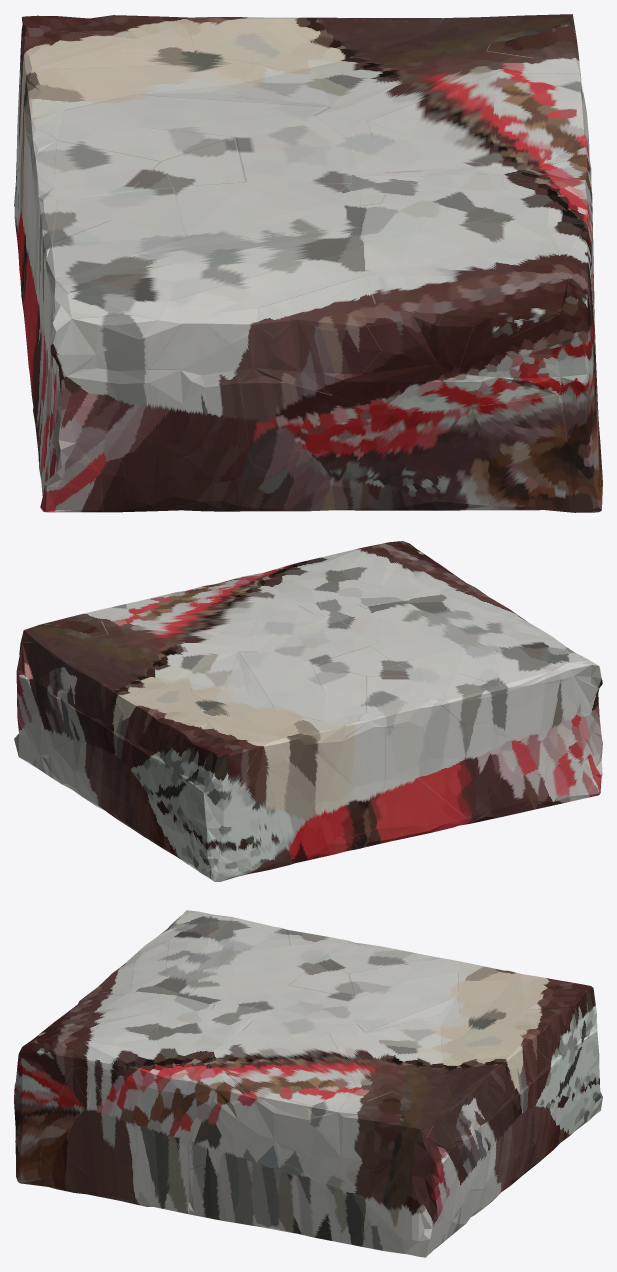
The model's file is ycb_pudding_box_metric_fp.obj.
The picture shows the model from 3 angles, top to bottom: view 1: azimuth 30°, elevation 25°; view 2: azimuth 150°, elevation 25°; view 3: azimuth 270°, elevation 25°; orthographic projection. The views are drawn at different scales.
Size of the model in its own units: 0.1288 by 0.0387 by 0.138.
Materials: 1 (1 with a texture image).
